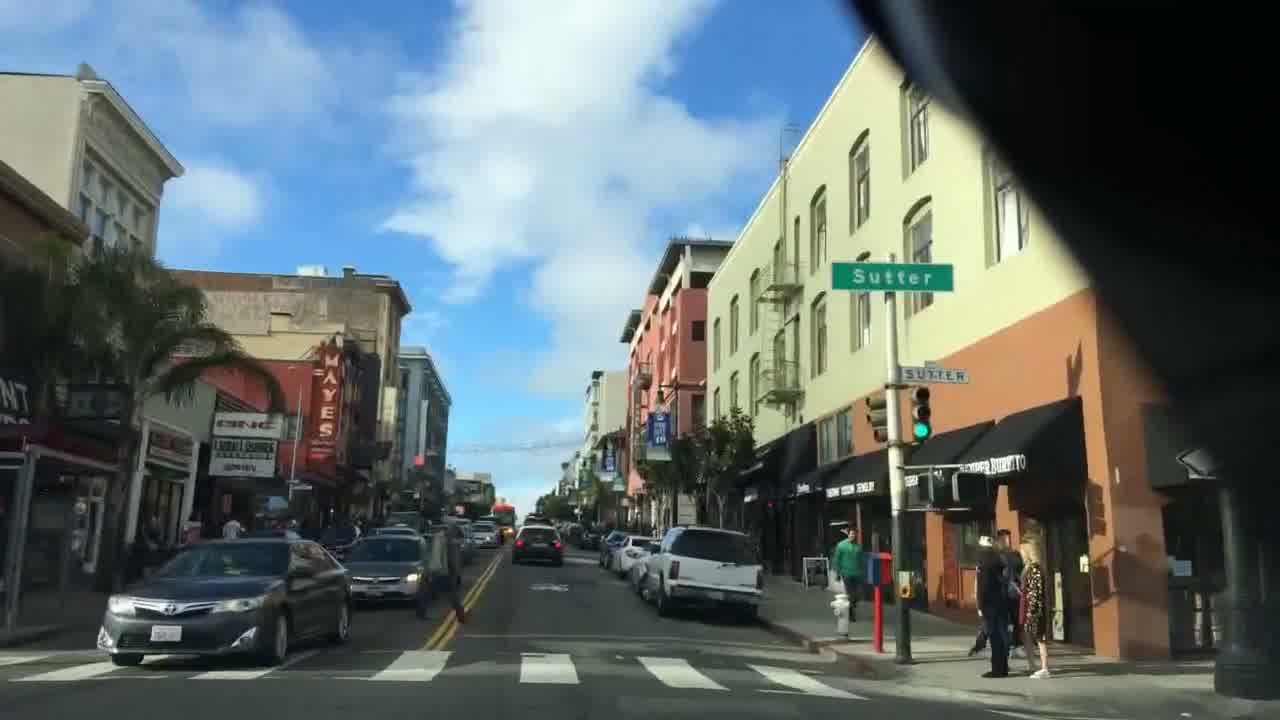car: (96, 536, 355, 667), (640, 525, 765, 618), (341, 533, 430, 606), (610, 535, 660, 579), (511, 523, 561, 564), (467, 520, 498, 548)
pedestrian: (414, 515, 474, 625), (967, 535, 1009, 678), (1019, 541, 1050, 681), (830, 526, 865, 623)
